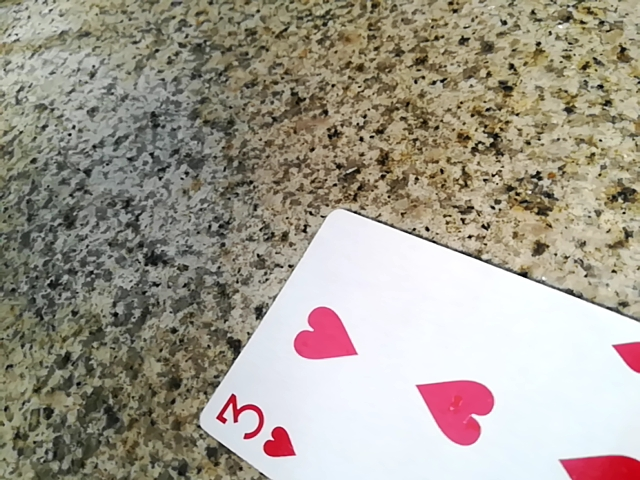hx 3: (192, 218, 637, 479)
